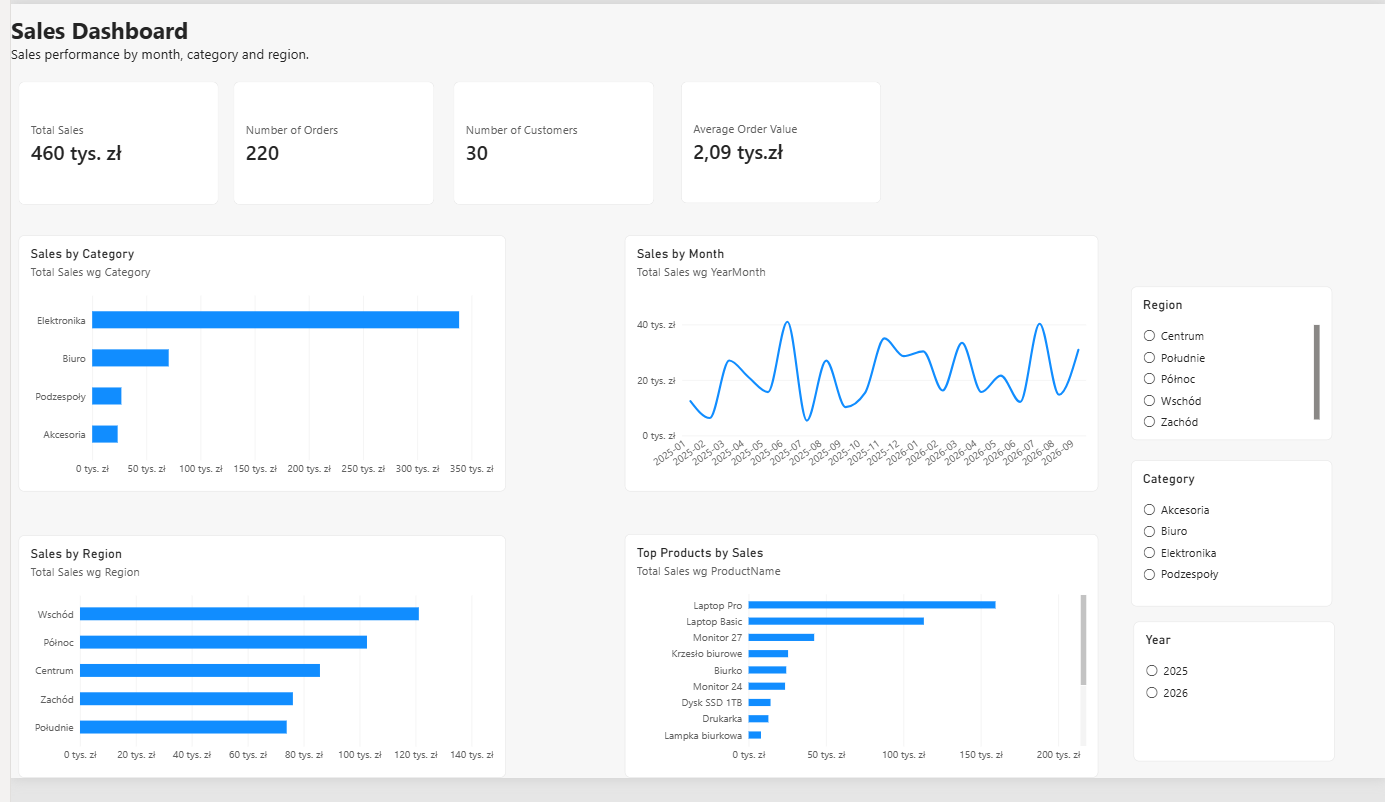

The page's visual inventory and layout, read from the dashboard file:
{"tool":"powerbi","page":{"name":"Strona 1","canvas":[1920,1080],"ordinal":0},"visuals":[{"type":"cardVisual","fields":{"Data":["SalesTable.Total Sales"]},"box":[10.5,108.1,279.1,172.7],"z":0},{"type":"cardVisual","fields":{"Data":["SalesTable.Number of Orders"]},"box":[310.5,108.1,280.8,172.7],"z":1000},{"type":"cardVisual","fields":{"Data":["SalesTable.Number of Customers"]},"box":[617.4,108.1,280.8,172.7],"z":2000},{"type":"cardVisual","fields":{"Data":["SalesTable.Average Order Value"]},"box":[934.9,108.1,279.1,170.9],"z":3000},{"type":"lineChart","title":"Sales by Month","fields":{"Category":["Calendar.YearMonth"],"Y":["SalesTable.Total Sales"]},"box":[856.4,322.7,661,357.6],"z":4000},{"type":"barChart","title":"Sales by Category","fields":{"Category":["ProductsTable.Category"],"Y":["SalesTable.Total Sales"]},"box":[10.5,322.7,680.2,357.6],"z":5000},{"type":"barChart","title":"Sales  by Region","fields":{"Category":["CustomersTable.Region"],"Y":["SalesTable.Total Sales"]},"box":[10.5,741.3,680.2,338.4],"z":6000},{"type":"barChart","title":"Top Products by Sales","fields":{"Category":["ProductsTable.ProductName"],"Y":["SalesTable.Total Sales"]},"box":[856.4,739.5,661,340.1],"z":7000},{"type":"listSlicer","fields":{"Values":["CustomersTable.Region"]},"box":[1562.8,394.2,280.8,214.5],"z":8000},{"type":"listSlicer","fields":{"Values":["ProductsTable.Category"]},"box":[1562.8,636.6,280.8,204.1],"z":9000},{"type":"listSlicer","fields":{"Values":["Calendar.Year"]},"box":[1566.3,861.6,280.8,195.3],"z":10000},{"type":"textbox","box":[690,323,207,358],"z":11000},{"type":"textbox","box":[690,741,166,338],"z":12000},{"type":"textbox","box":[100,100,300,300],"z":14000},{"type":"textbox","box":[0,14,856.4,94.2],"z":14001}]}

Visuals, with their boxes in screenshot pixels (x1, y1, x2, y2), scaled from the page's 1920x1080 canvas onto the 1385x802 screenshot:
cardVisual - SalesTable.Total Sales: [8,80,209,209]
cardVisual - SalesTable.Number of Orders: [224,80,427,209]
cardVisual - SalesTable.Number of Customers: [445,80,648,209]
cardVisual - SalesTable.Average Order Value: [674,80,876,207]
"Sales by Month" lineChart: [618,240,1095,505]
"Sales by Category" barChart: [8,240,498,505]
"Sales  by Region" barChart: [8,550,498,801]
"Top Products by Sales" barChart: [618,549,1095,801]
listSlicer - CustomersTable.Region: [1127,293,1330,452]
listSlicer - ProductsTable.Category: [1127,473,1330,624]
listSlicer - Calendar.Year: [1130,640,1332,785]
textbox: [498,240,647,506]
textbox: [498,550,617,801]
textbox: [72,74,289,297]
textbox: [0,10,618,80]
